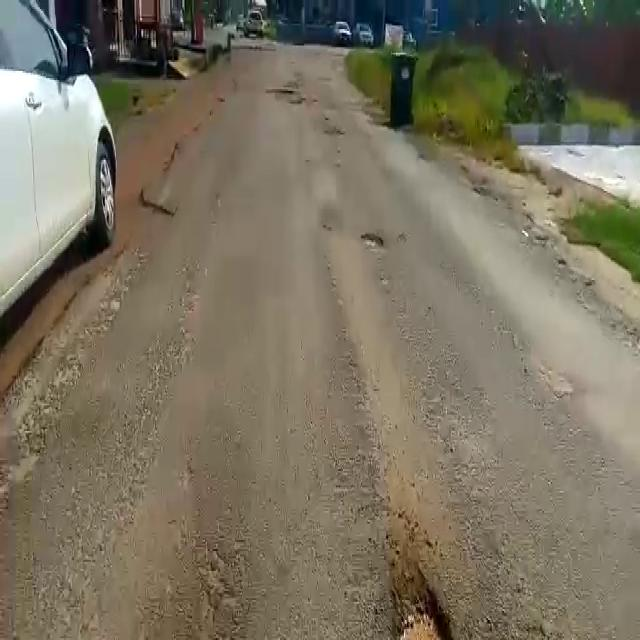Pothole: (383, 576, 468, 638), (360, 229, 394, 252)
